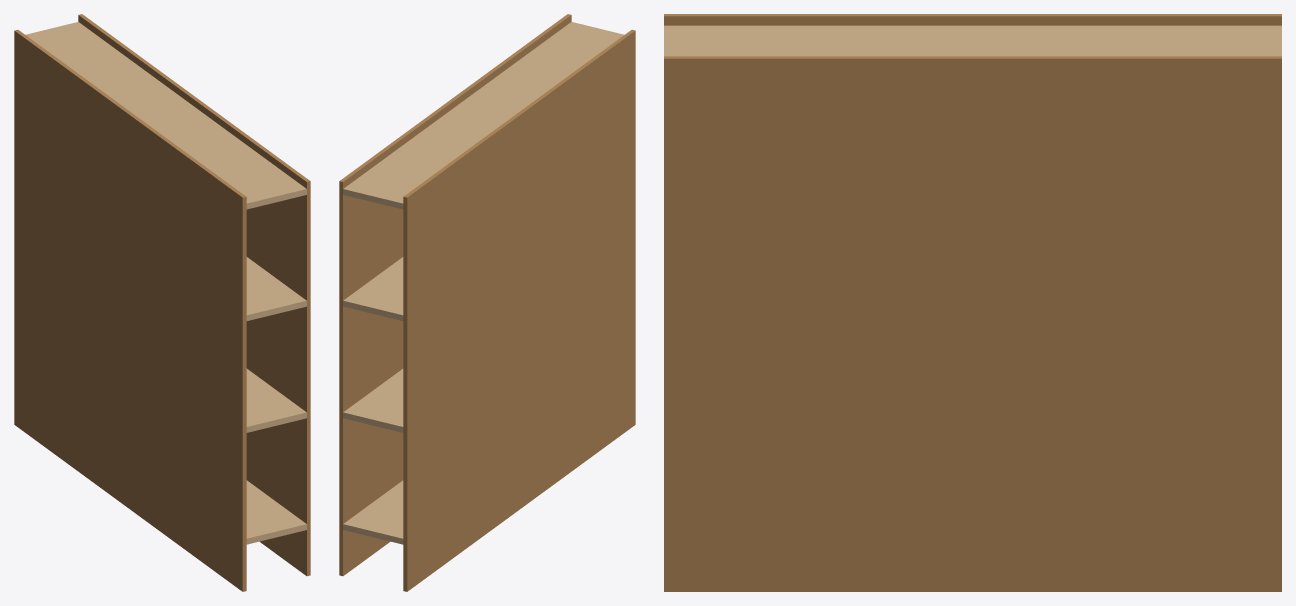
3 views of the same model, side by side, from view 1: azimuth 30°, elevation 25°; view 2: azimuth 150°, elevation 25°; view 3: azimuth 270°, elevation 25° (orthographic). The views are drawn at different scales.
Visible parts, largest first — view 1: estante_bodega_b; view 2: estante_bodega_b; view 3: estante_bodega_b.
Boxes of the visible parts, x1,y1,x2,y2 form: estante_bodega_b: (14, 14, 310, 591); estante_bodega_b: (339, 14, 635, 591); estante_bodega_b: (664, 14, 1281, 591).
Size of the model in its own units: 0.36 by 2.1 by 2.
